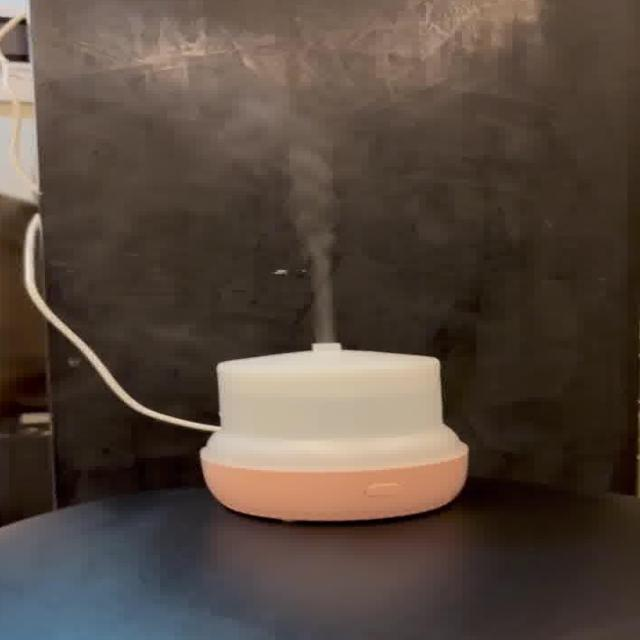fire: (160, 81, 352, 342)
